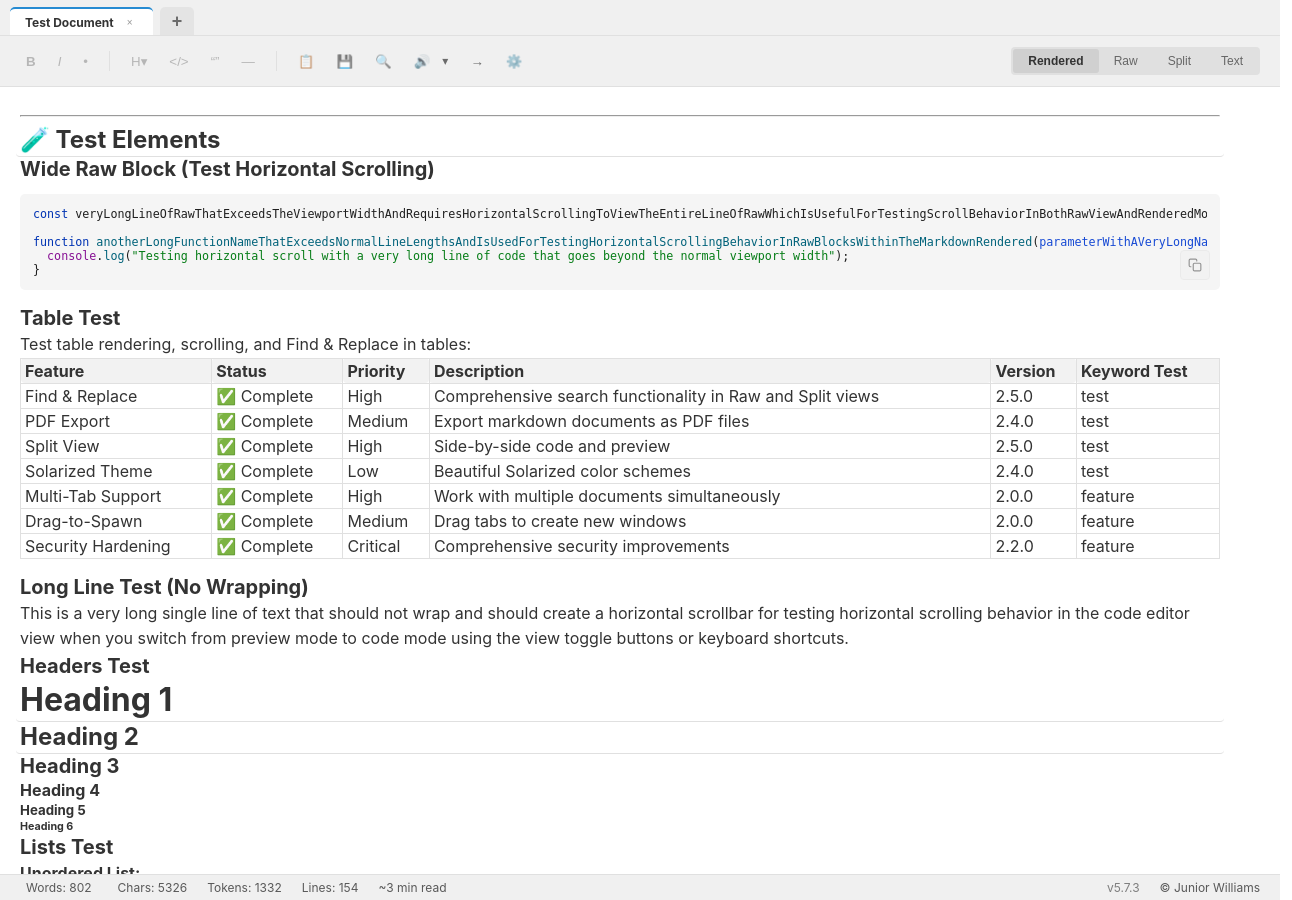
Test: App Integration Tests › Word Count Goal › should clear goal when submitting empty value
// Set a goal first
Step 1. Click the button with aria-label "Word count" → {"x": 59, "y": 888}, box [20,878,98,897]
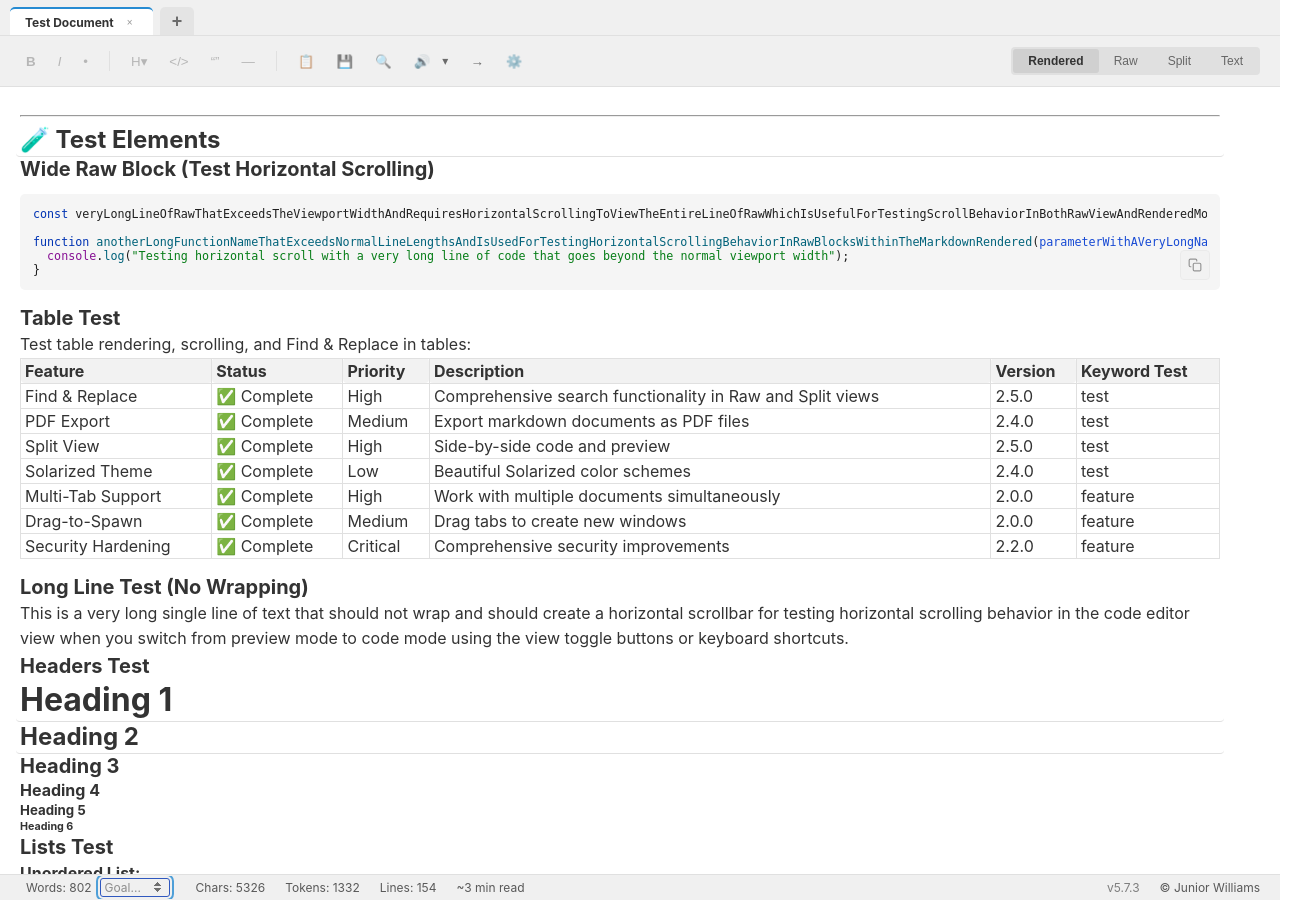
Step 2. Type "500" into the number field named "Set word count goal" → {"x": 135, "y": 888}, box [100,878,170,897]
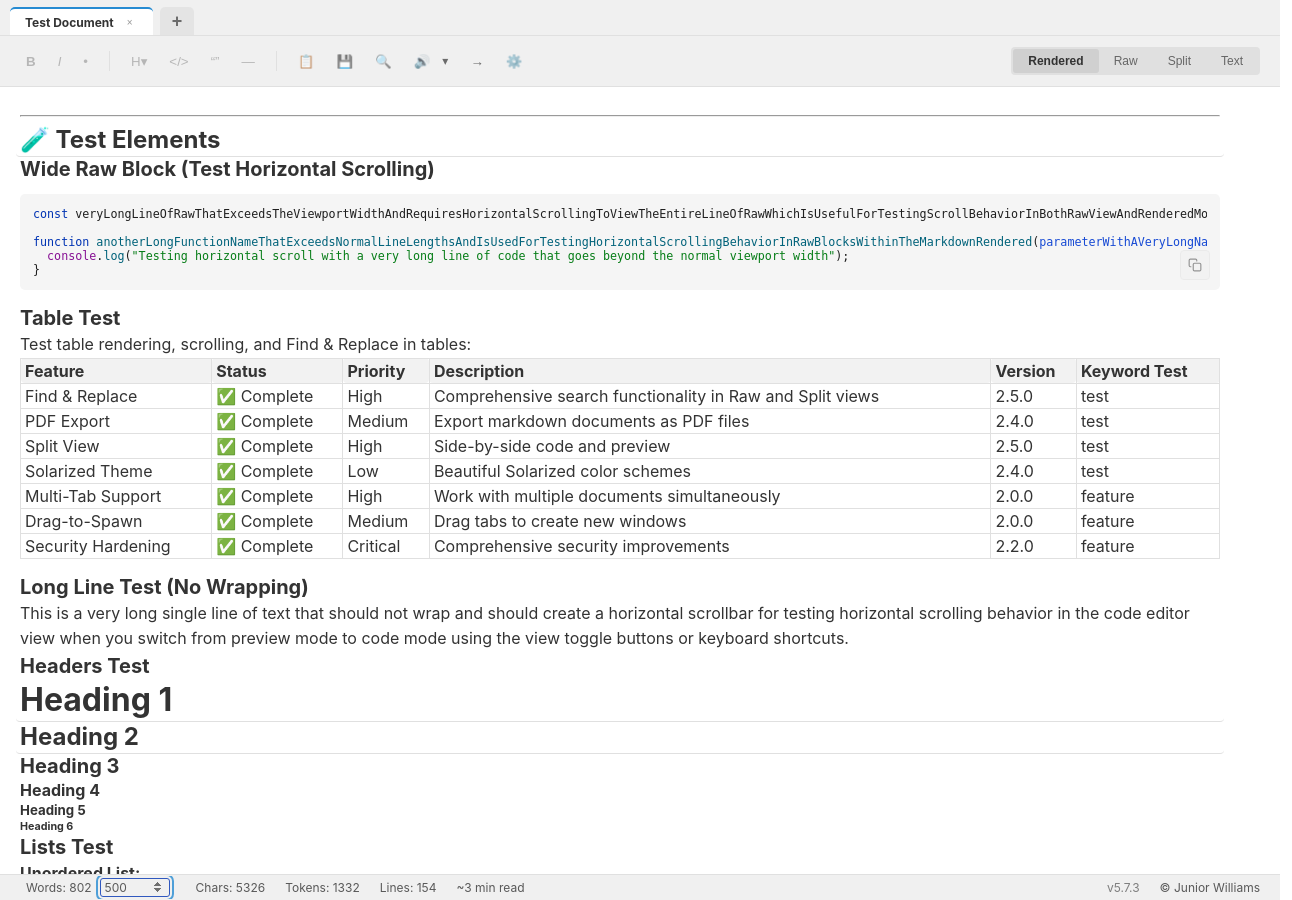
Step 3. Press Enter
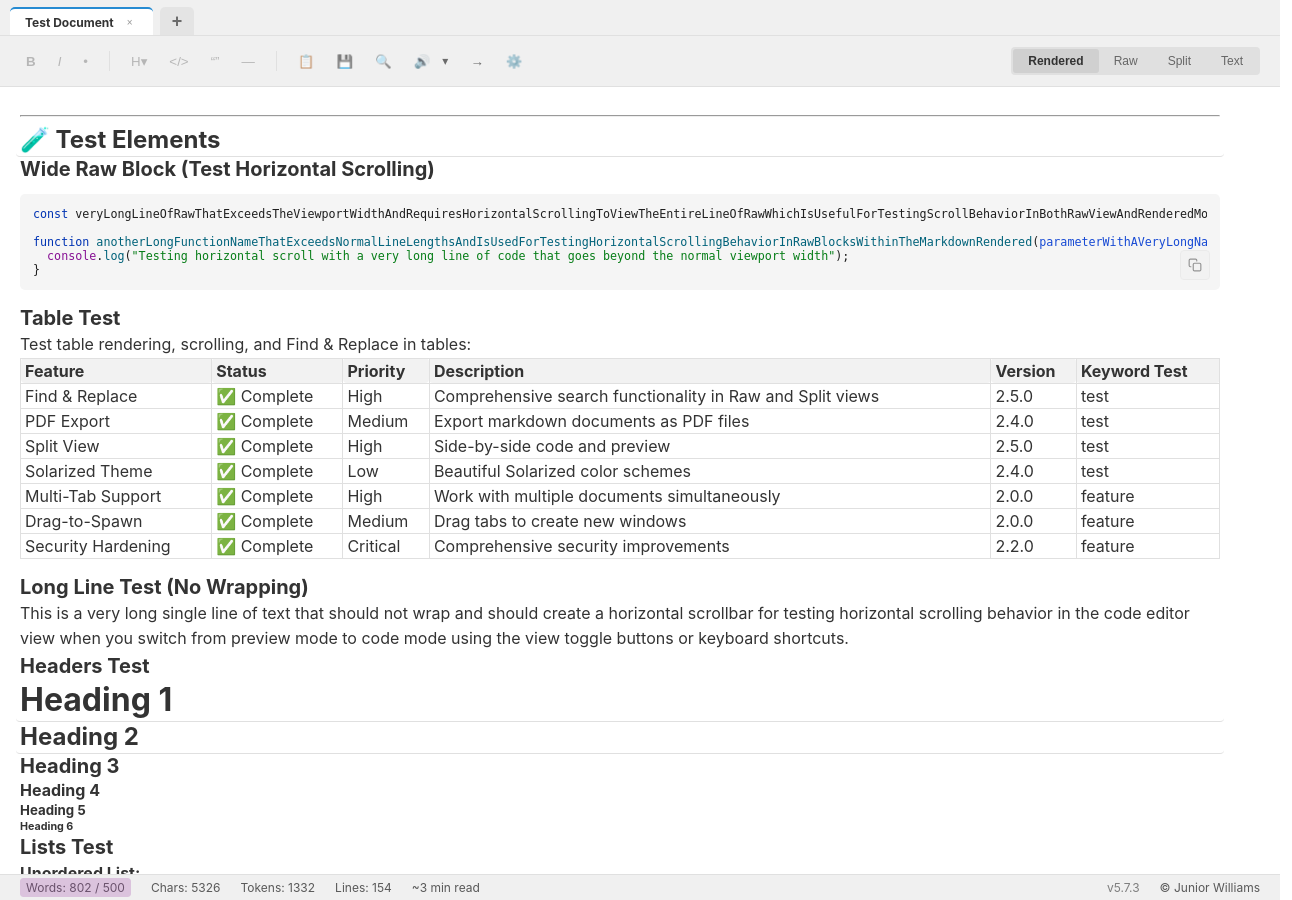
Now the button with aria-label "goal" shows "/ 500"
// Clear the goal
Step 4. Click the button with aria-label "goal" → {"x": 75, "y": 888}, box [20,878,131,897]
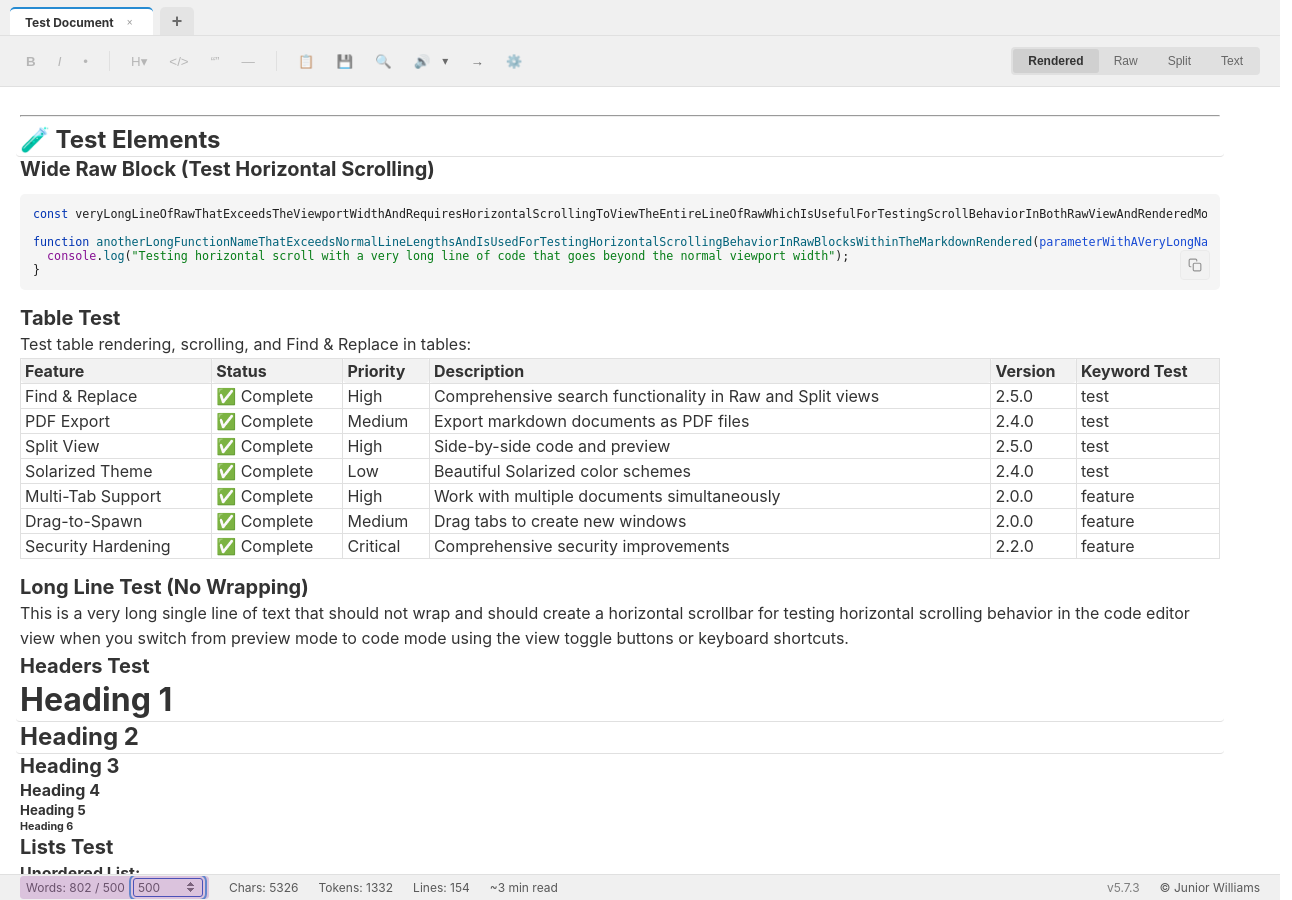
Step 5. Clear the number field named "Set word count goal" → {"x": 168, "y": 888}, box [133,878,203,897]
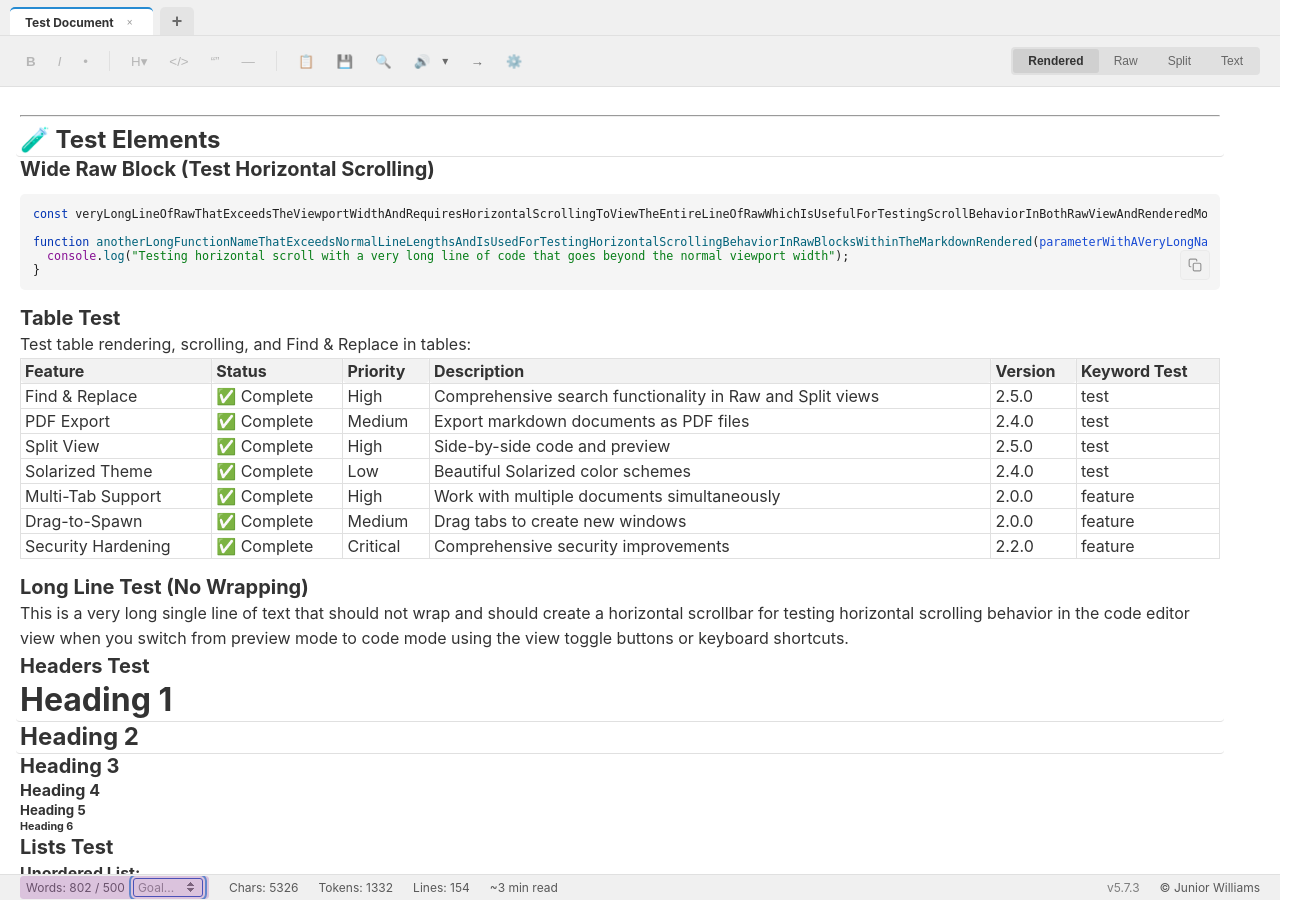
Step 6. Press Enter
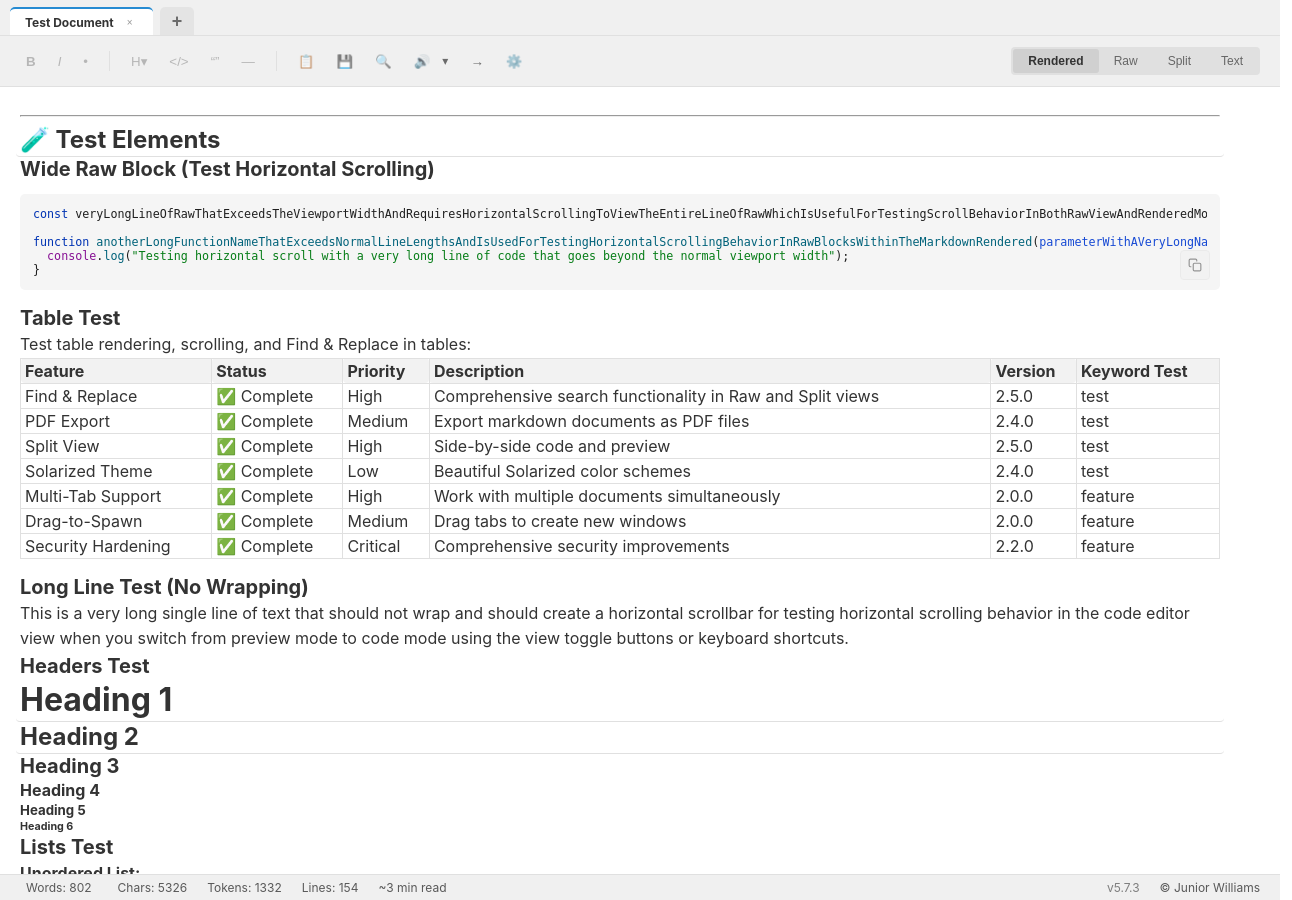
Now the button with aria-label "Word count" no longer shows "/ 500", box [20,878,98,897]
